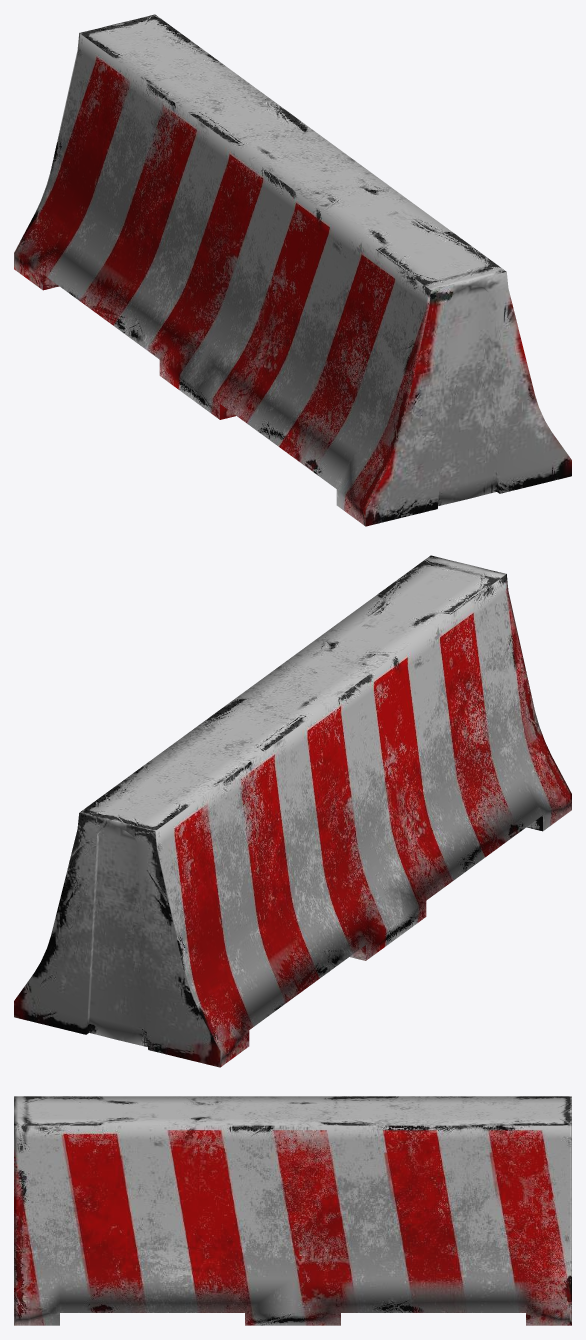
File: low_poly_road_barrier.gltf
The picture shows the model from 3 angles, top to bottom: view 1: azimuth 30°, elevation 25°; view 2: azimuth 150°, elevation 25°; view 3: azimuth 270°, elevation 25°; orthographic projection. The views are drawn at different scales.
Visible parts, largest first — view 1: Cube; view 2: Cube; view 3: Cube.
Part boxes in pixels (box(x1,y1,x2,y2)): Cube: box(14, 14, 571, 526); Cube: box(14, 555, 571, 1067); Cube: box(14, 1096, 571, 1325).
Bounding box in the file's own units: 0.6773 × 0.6914 × 2.
